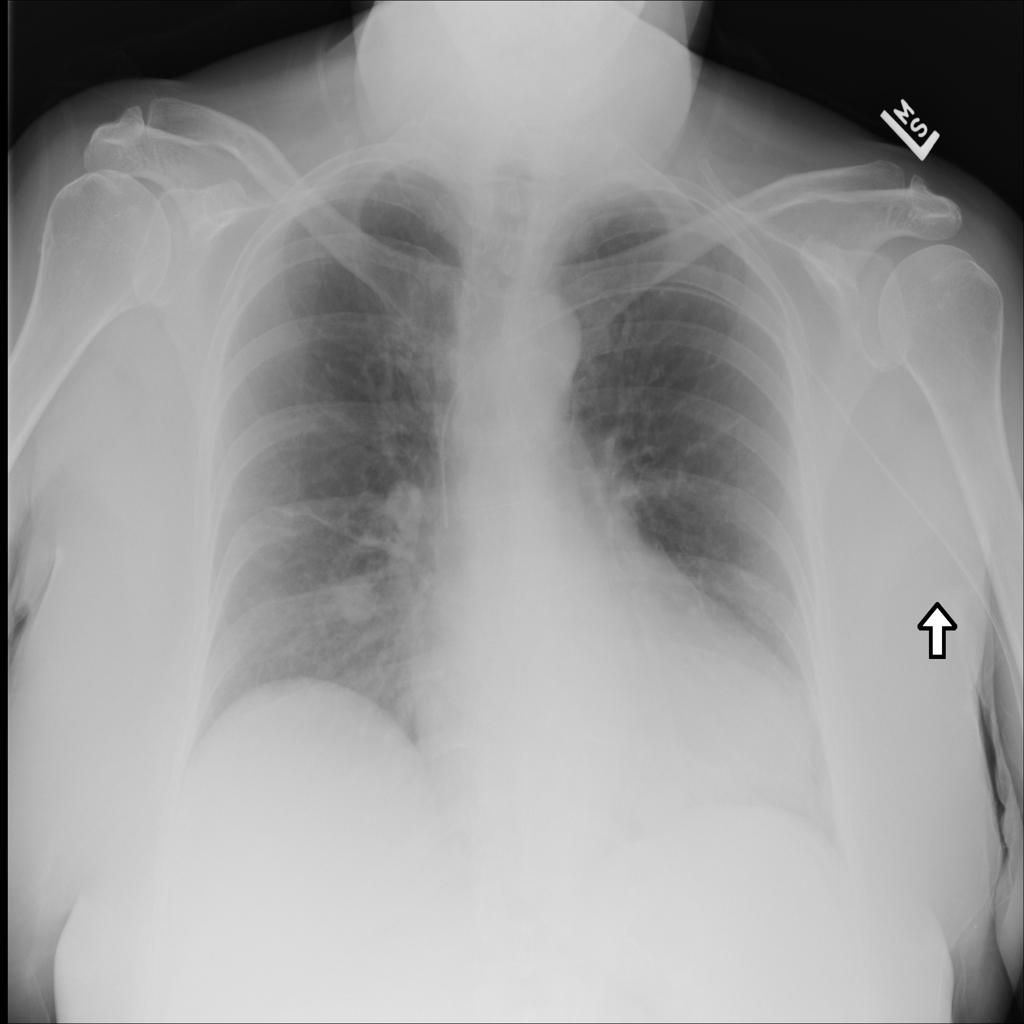nodule: (321, 555, 390, 640)
